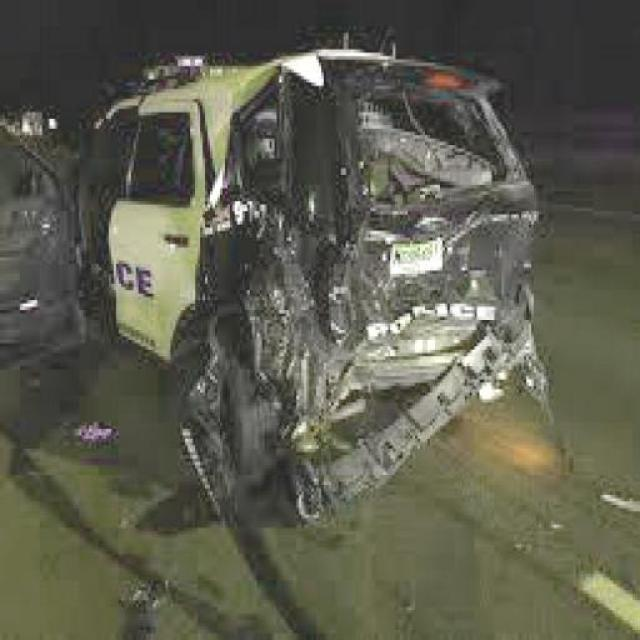Car-Damage: (192, 49, 546, 517)
